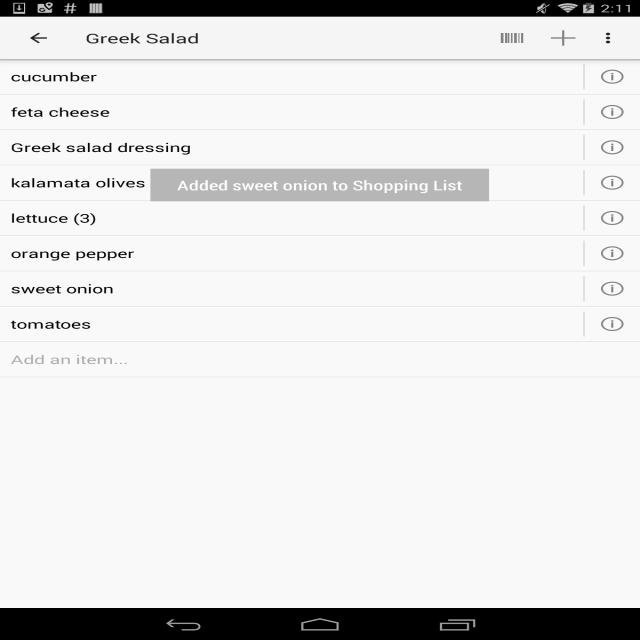CheckedTextView: (10, 68, 572, 85), (10, 174, 572, 191), (10, 280, 572, 297), (10, 104, 572, 120), (10, 139, 572, 155), (10, 210, 572, 226), (10, 245, 572, 261), (10, 316, 572, 332)
ImageButton: (9, 17, 68, 59), (584, 94, 640, 129), (584, 200, 640, 235), (584, 306, 640, 341), (584, 59, 640, 93), (584, 130, 640, 164), (584, 165, 640, 199), (584, 236, 640, 270), (584, 271, 640, 305)
ImageView: (589, 22, 631, 54)
TextView: (0, 342, 640, 377), (86, 29, 200, 47), (487, 22, 538, 54), (538, 22, 588, 54)
